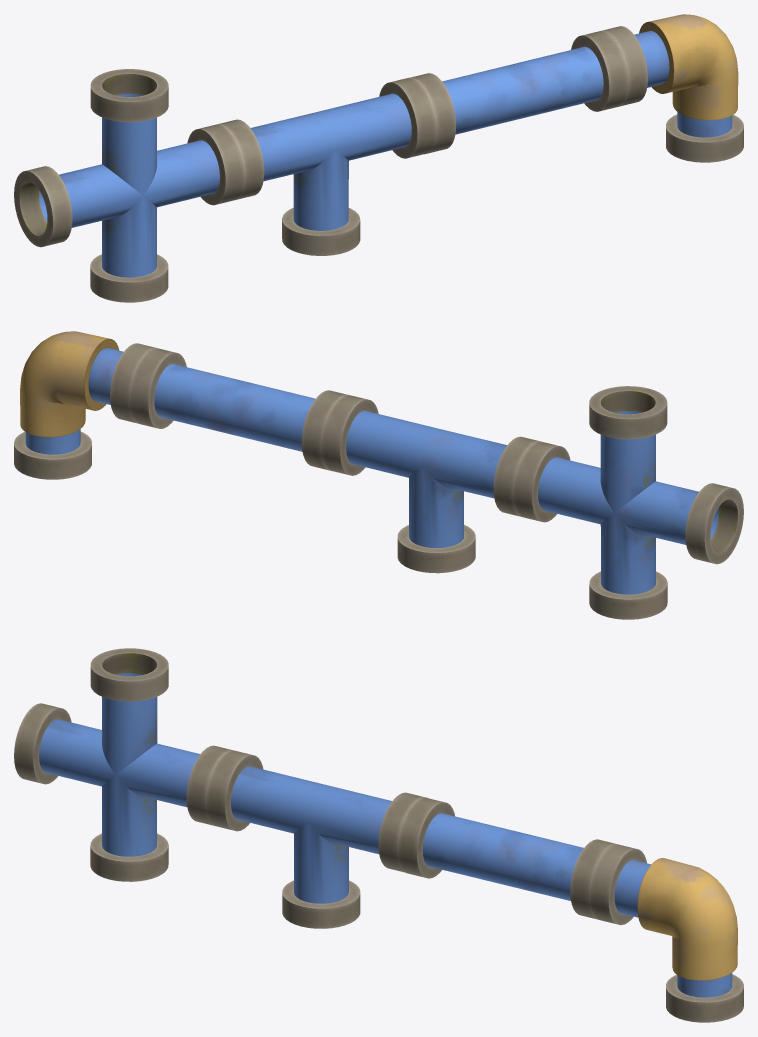
The model's file is Pipes_son.fbx.
3 renders of one model, top to bottom at view 1: azimuth 30°, elevation 25°; view 2: azimuth 150°, elevation 25°; view 3: azimuth 330°, elevation 25°, orthographic.
Visible parts, largest first — view 1: Cylinder.001, Cylinder.019, Cylinder.020, Cylinder.017; view 2: Cylinder.001, Cylinder.019, Cylinder.020, Cylinder.017; view 3: Cylinder.001, Cylinder.019, Cylinder.020, Cylinder.017.
Boxes of the visible parts, x1,y1,x2,y2 form: Cylinder.001: (14, 69, 244, 302); Cylinder.019: (218, 77, 436, 255); Cylinder.020: (602, 14, 743, 162); Cylinder.017: (411, 30, 628, 154); Cylinder.001: (513, 386, 743, 619); Cylinder.019: (321, 394, 539, 573); Cylinder.020: (14, 331, 155, 479); Cylinder.017: (129, 348, 347, 471); Cylinder.001: (14, 648, 232, 881); Cylinder.019: (206, 750, 427, 928); Cylinder.020: (589, 844, 743, 1022); Cylinder.017: (397, 797, 615, 919).
Bounding box in the file's own units: 368 × 100 × 35.54.
